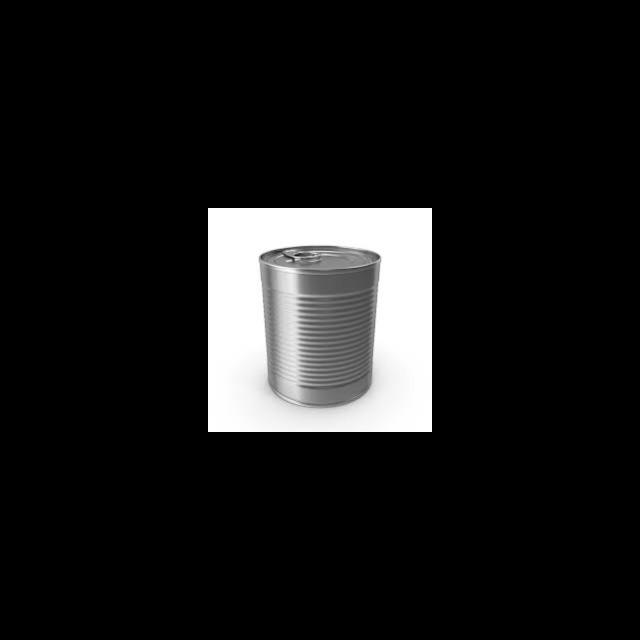metal: (252, 240, 386, 409)
